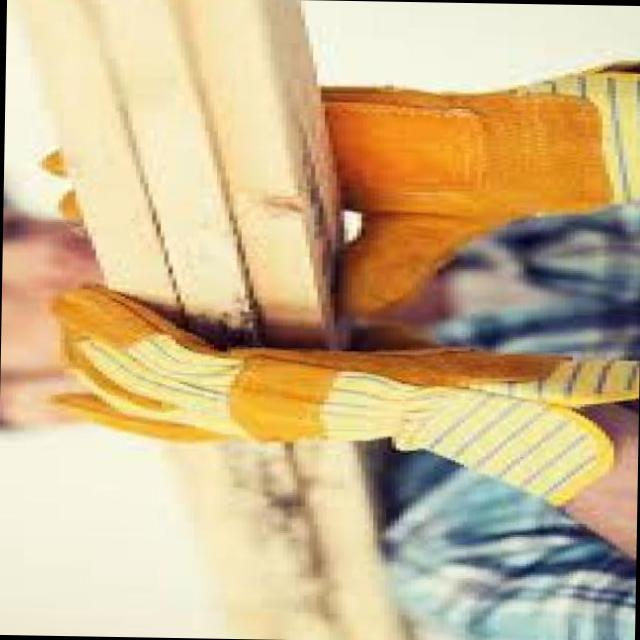gloved: (34, 286, 640, 512), (335, 71, 640, 282)
